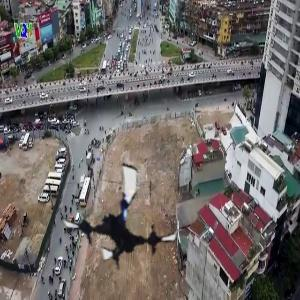drone: (57, 154, 183, 280)
